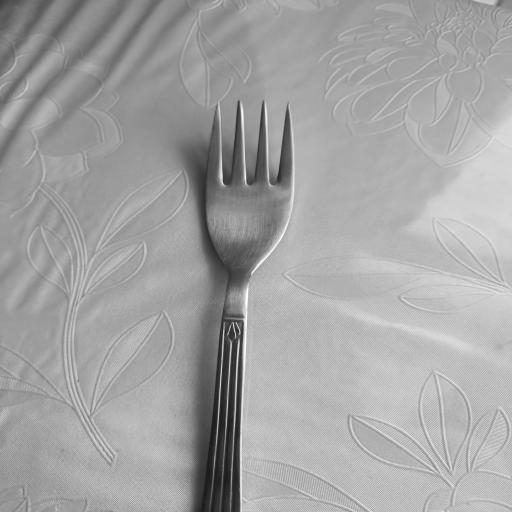fork: (196, 99, 297, 512)
